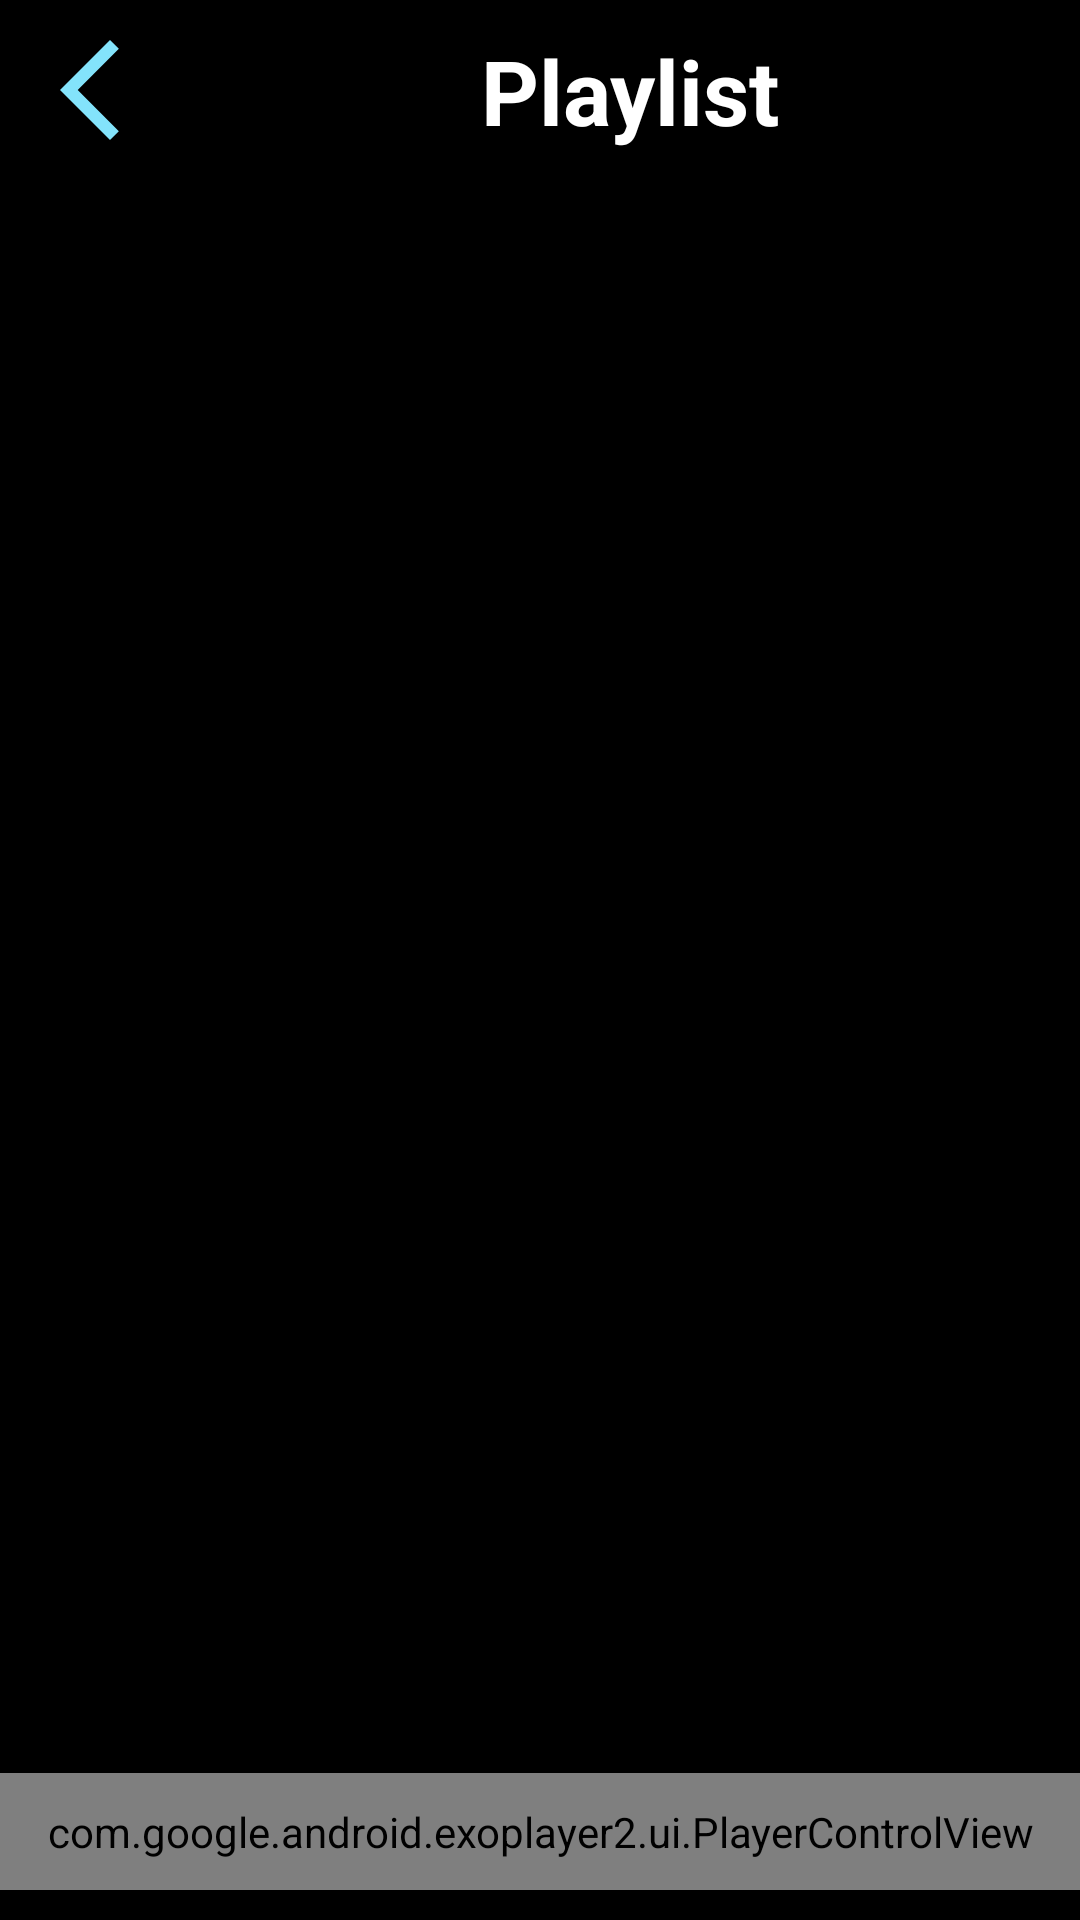

Icon bounding boxes for this 1080px×1920px phone screenshot, format (x1, y1, x2, y2):
Back: (60, 40, 119, 140)
